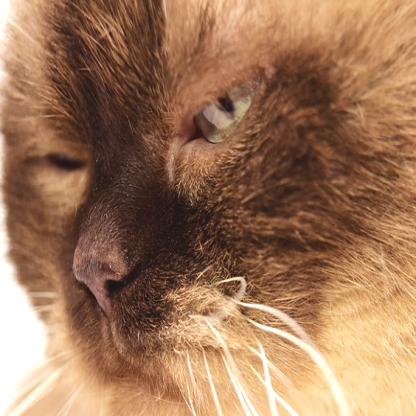cat: (4, 0, 415, 408)
